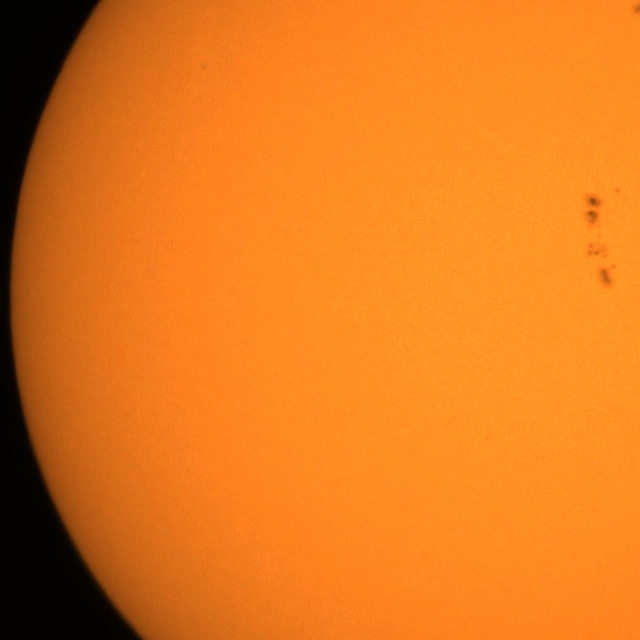sunspot: (586, 243, 617, 283), (583, 193, 604, 226), (597, 263, 617, 288), (586, 243, 610, 262), (630, 2, 640, 17), (614, 186, 622, 194)
